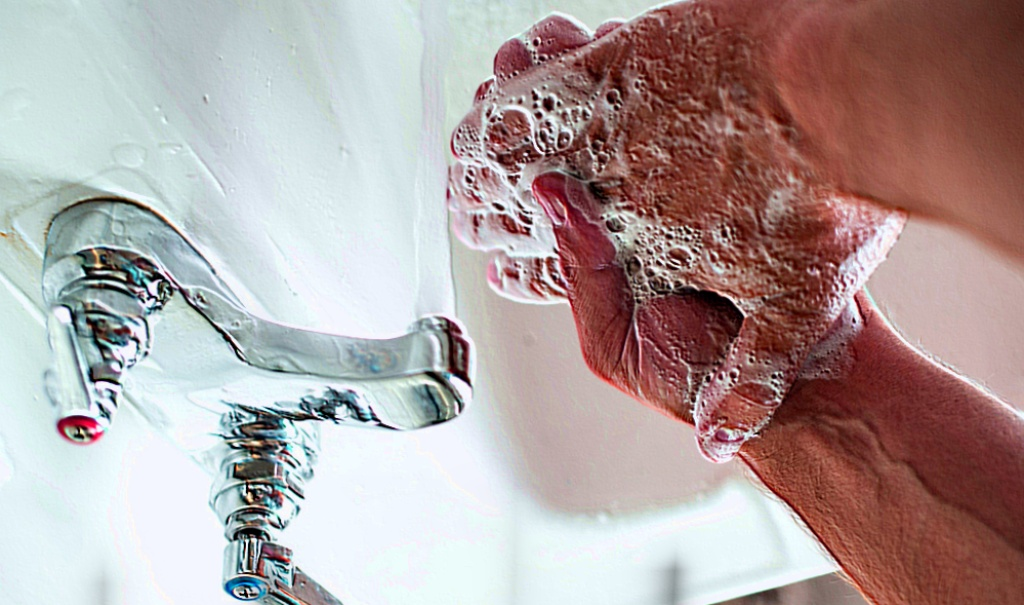washing hand: (188, 2, 965, 593)
